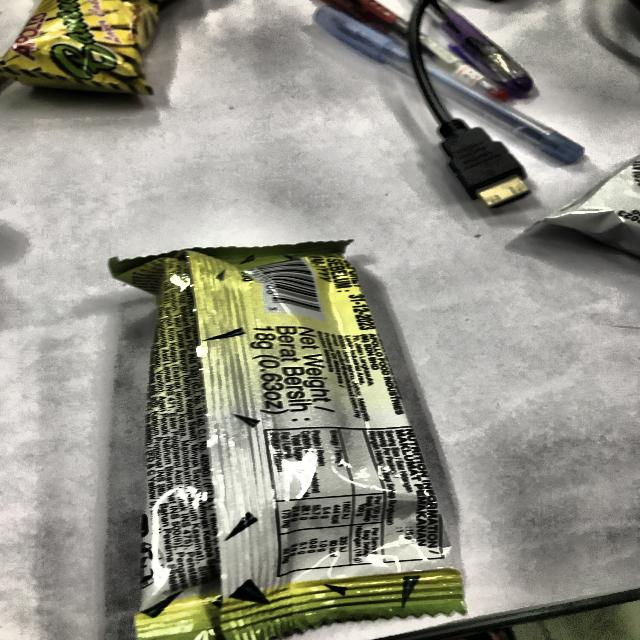Plastic: (143, 243, 453, 613)
